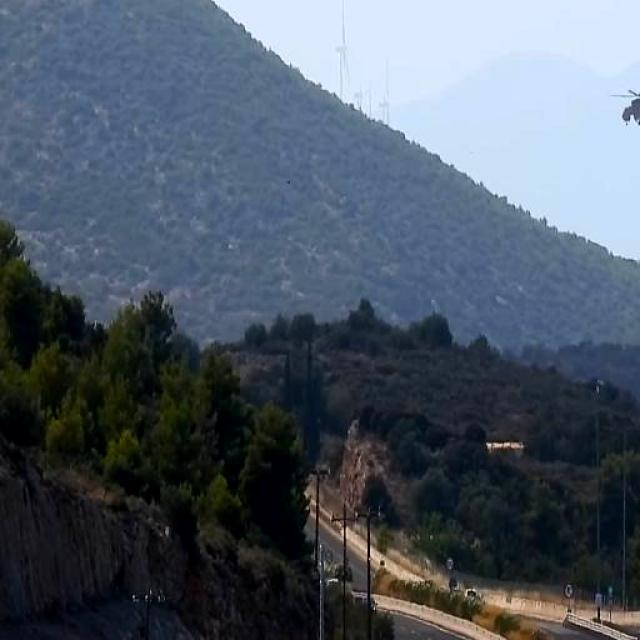drone: (610, 78, 640, 132)
